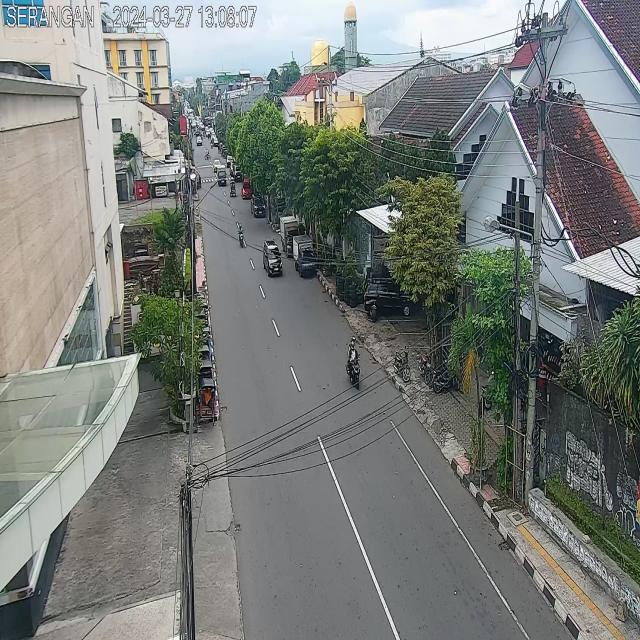car: (263, 240, 282, 277), (251, 194, 266, 218), (241, 183, 252, 200)
motorcycle: (344, 333, 363, 392), (238, 222, 245, 248)
truck: (294, 235, 315, 276), (279, 217, 300, 256), (217, 165, 227, 186)
